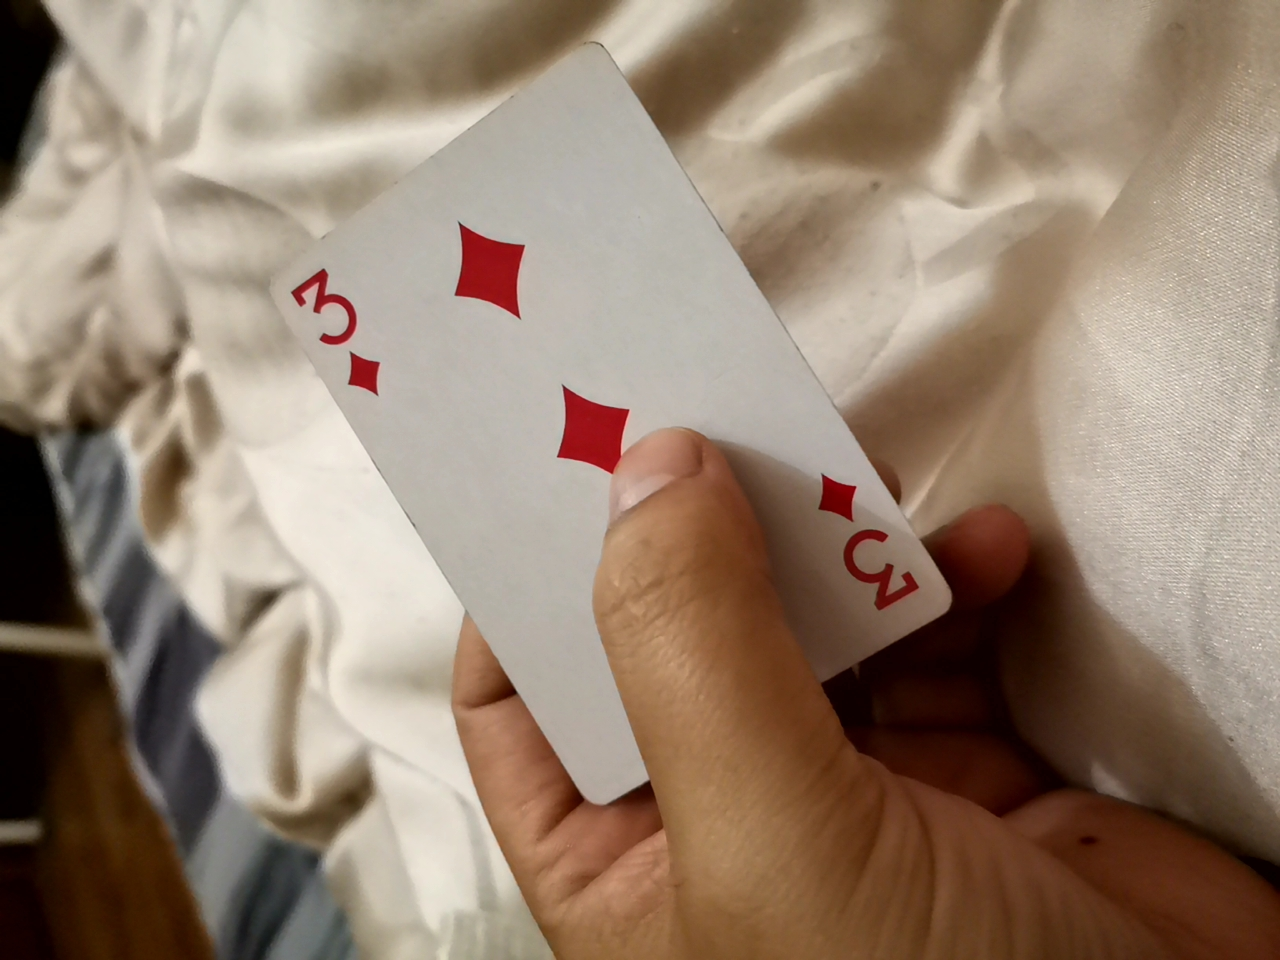fk 3: (236, 15, 965, 787)
